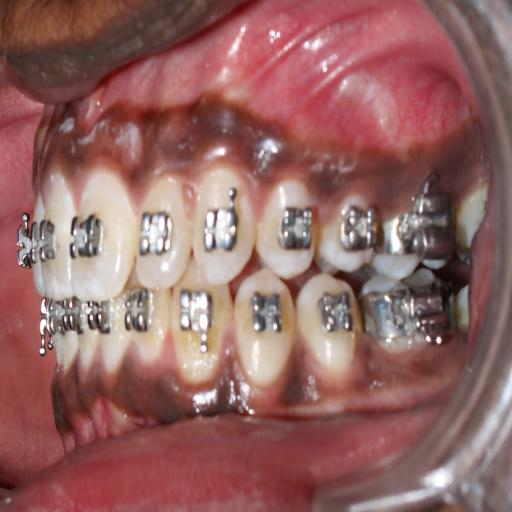correct_brace: (259, 174, 316, 274), (136, 208, 176, 262), (70, 207, 104, 259), (204, 203, 238, 254)
incorrect_brace: (136, 170, 187, 291), (276, 202, 318, 254)
